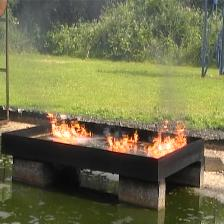fire: (144, 119, 187, 159), (47, 111, 95, 142), (107, 130, 138, 153)
